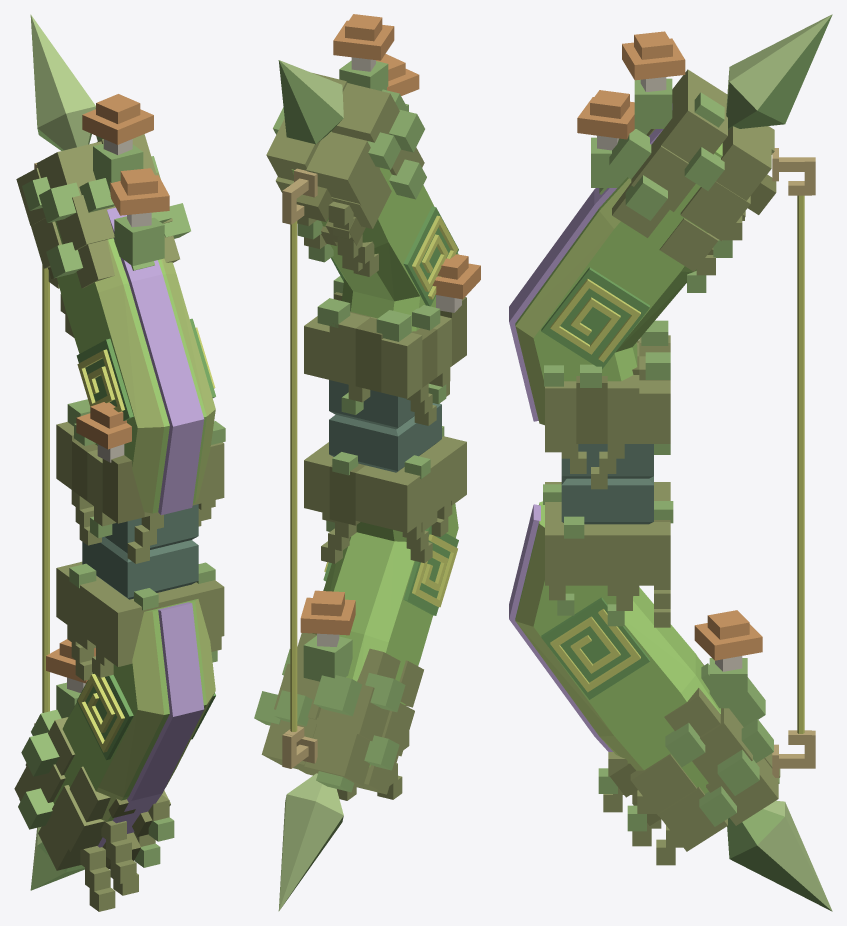
Rendered from moss_slime_bow_roblox.glb.
3 renders of one model, left to right at view 1: azimuth 30°, elevation 25°; view 2: azimuth 150°, elevation 25°; view 3: azimuth 270°, elevation 25°, orthographic. The views are drawn at different scales.
Parts seen in each view (by area): view 1: Bow, Leaves, Gems, String; view 2: Leaves, Bow, Gems, String; view 3: Leaves, Bow, Gems, String.
Part boxes in pixels (x1,y1,x2,y2): Bow: (34,94,215,847); Leaves: (14,134,225,911); Gems: (30,14,215,890); String: (42,265,49,712); Leaves: (254,60,466,800); Bow: (282,14,480,768); Gems: (278,60,458,911); String: (290,221,297,731); Leaves: (543,69,780,865); Bow: (509,31,815,793); Gems: (541,14,832,911); String: (797,195,804,733).
Bounding box in the file's own units: 0.1873 × 1.18 × 0.3855.
